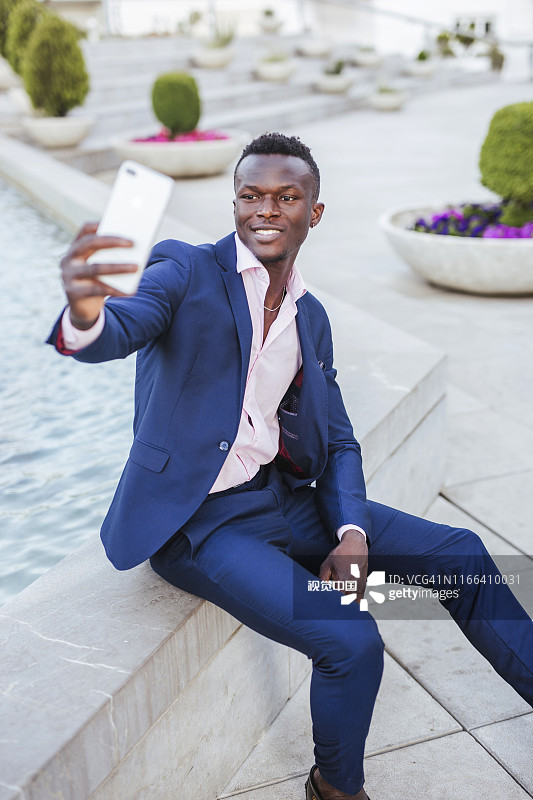taking photos: (38, 164, 162, 343)
